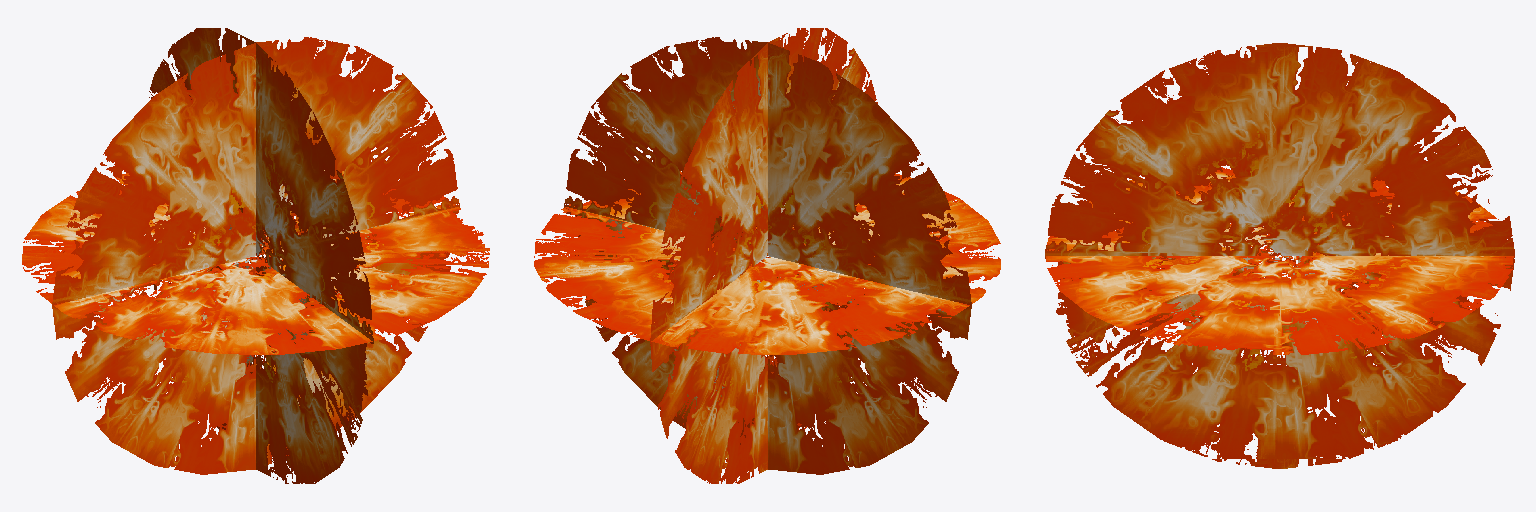
3 views of the same model, side by side, from view 1: azimuth 30°, elevation 25°; view 2: azimuth 150°, elevation 25°; view 3: azimuth 270°, elevation 25° (orthographic).
Visible parts, largest first — view 1: Mesh2 Model, Mesh1 Model, Mesh3 Model; view 2: Mesh2 Model, Mesh3 Model, Mesh1 Model; view 3: Mesh1 Model, Mesh3 Model.
Part boxes in pixels (bbox=[...]): Mesh2 Model: bbox=[52, 37, 459, 474]; Mesh1 Model: bbox=[149, 28, 373, 483]; Mesh3 Model: bbox=[22, 170, 489, 354]; Mesh2 Model: bbox=[564, 37, 971, 474]; Mesh3 Model: bbox=[534, 171, 1000, 354]; Mesh1 Model: bbox=[650, 28, 877, 483]; Mesh1 Model: bbox=[1045, 43, 1514, 468]; Mesh3 Model: bbox=[1046, 167, 1513, 354].
Size of the model in its own units: 2 by 2 by 2.
1 materials, 1 textured.